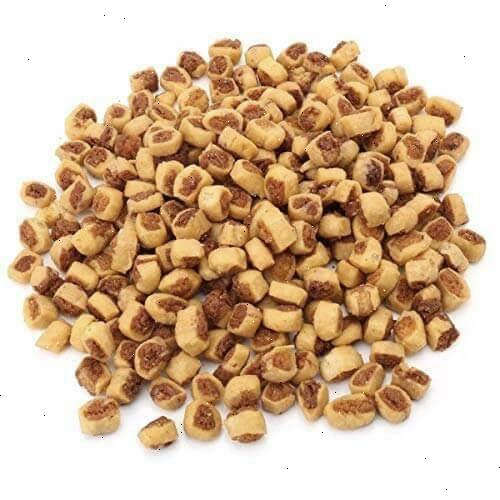bhakarwadi: (7, 34, 488, 451)
